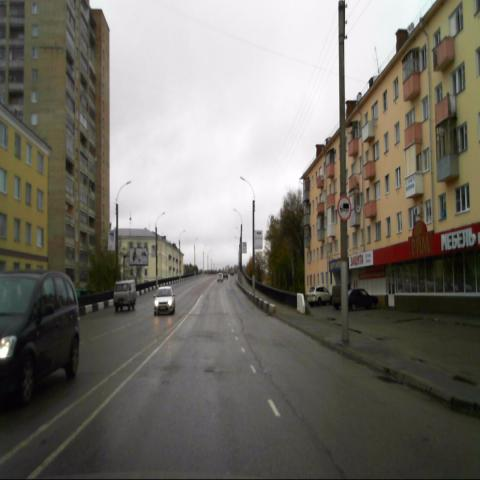3_4_1: (337, 194, 351, 221)
